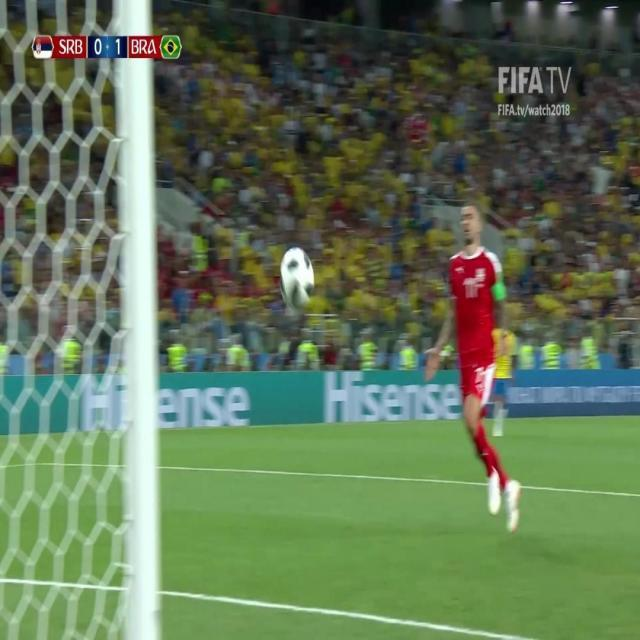ball: (277, 240, 318, 316)
player: (429, 190, 521, 532)
